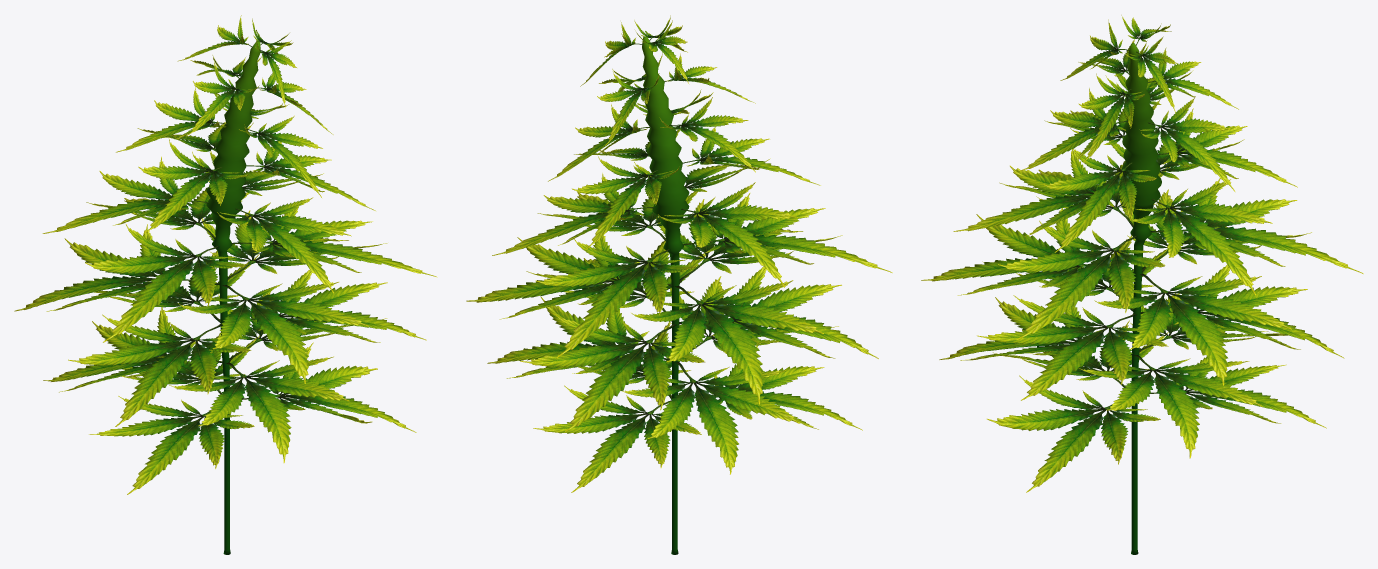
Rendered from Weed.glb.
3 renders of one model, left to right at view 1: azimuth 30°, elevation 25°; view 2: azimuth 150°, elevation 25°; view 3: azimuth 270°, elevation 25°, orthographic. The views are drawn at different scales.
Parts seen in each view (by area): view 1: Leves, Cannabis; view 2: Leves, Cannabis; view 3: Leves, Cannabis.
Part boxes in pixels (<box>): Leves: <box>14,15,437,494</box>; Cannabis: <box>206,41,260,554</box>; Leves: <box>466,15,892,492</box>; Cannabis: <box>642,36,689,554</box>; Leves: <box>921,15,1363,492</box>; Cannabis: <box>1122,43,1161,554</box>.
Bounding box in the file's own units: 0.4166 × 0.6215 × 0.4587.
Materials: 1 (1 with a texture image).
